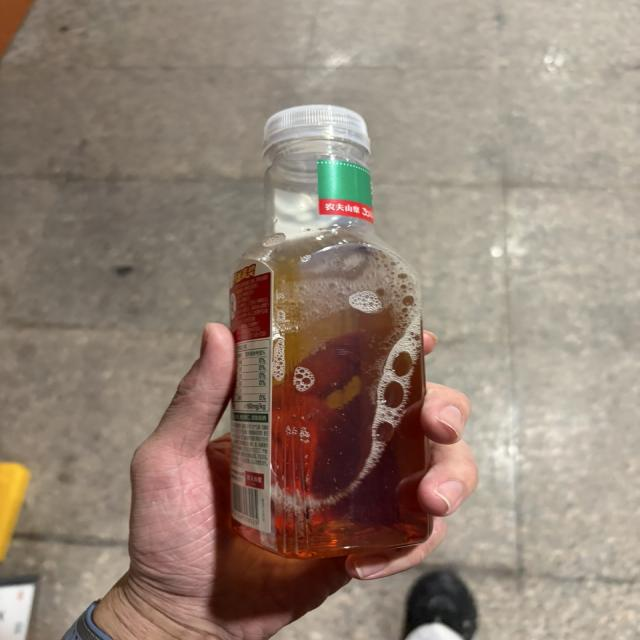medium: (230, 107, 430, 558)
